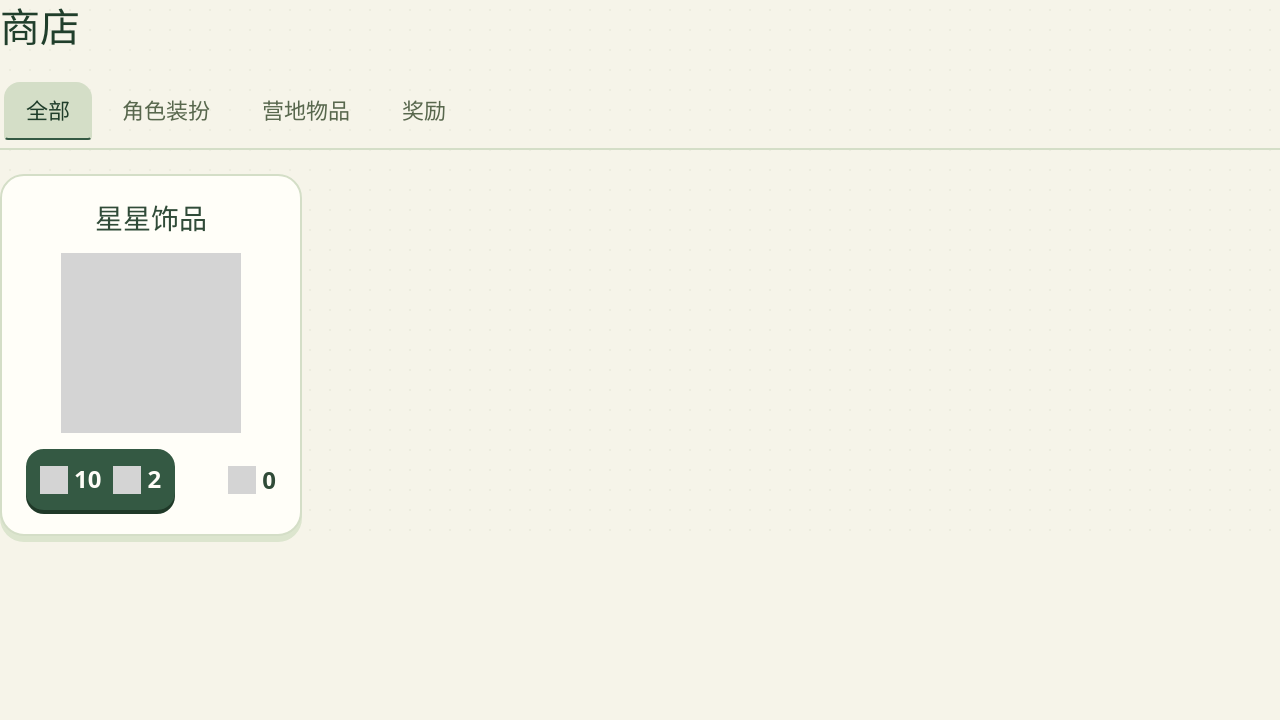
Scenario: 商店页面读取与动作边界 › 营地物品 购买后仍在当前商店分类
This screenshot has width=1280, height=720.
Expected: the heading "星星饰品" is shown, [95,199,207,237]
Click the tab "营地物品".
click(306, 111)  # box [240,82,372,140]
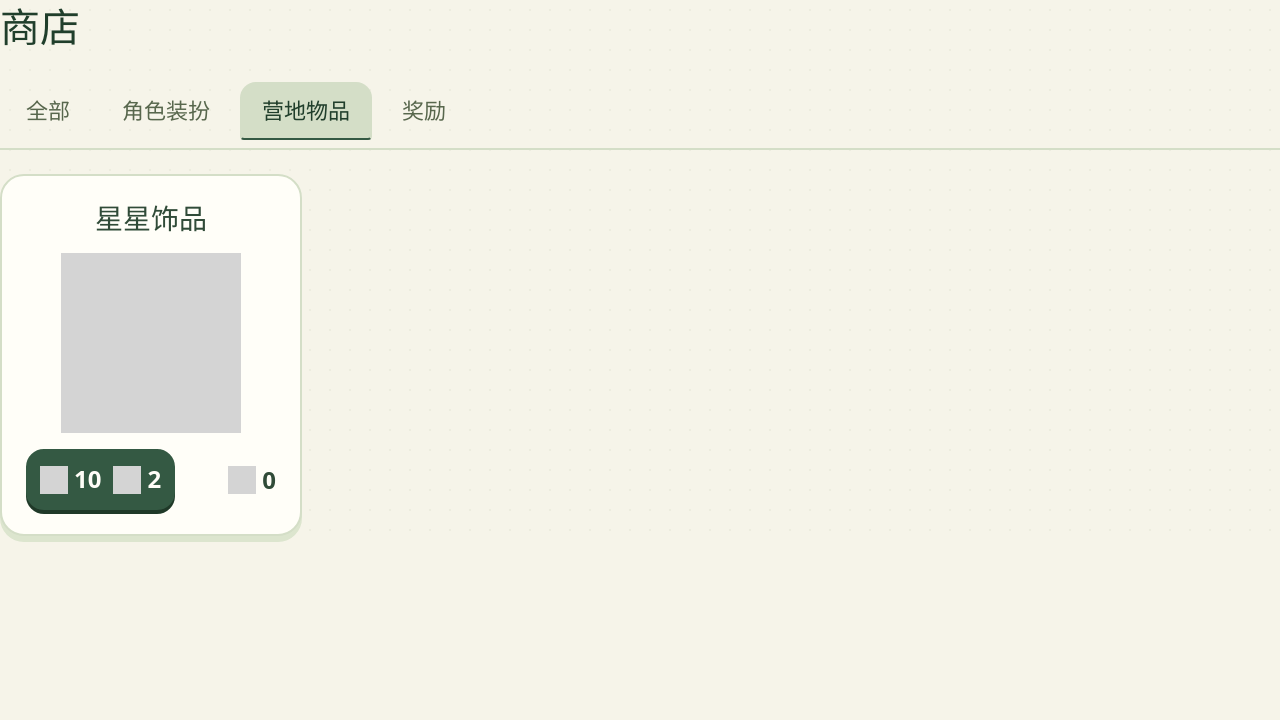
Click the button "10 2".
click(101, 480)  # box [26,450,175,510]
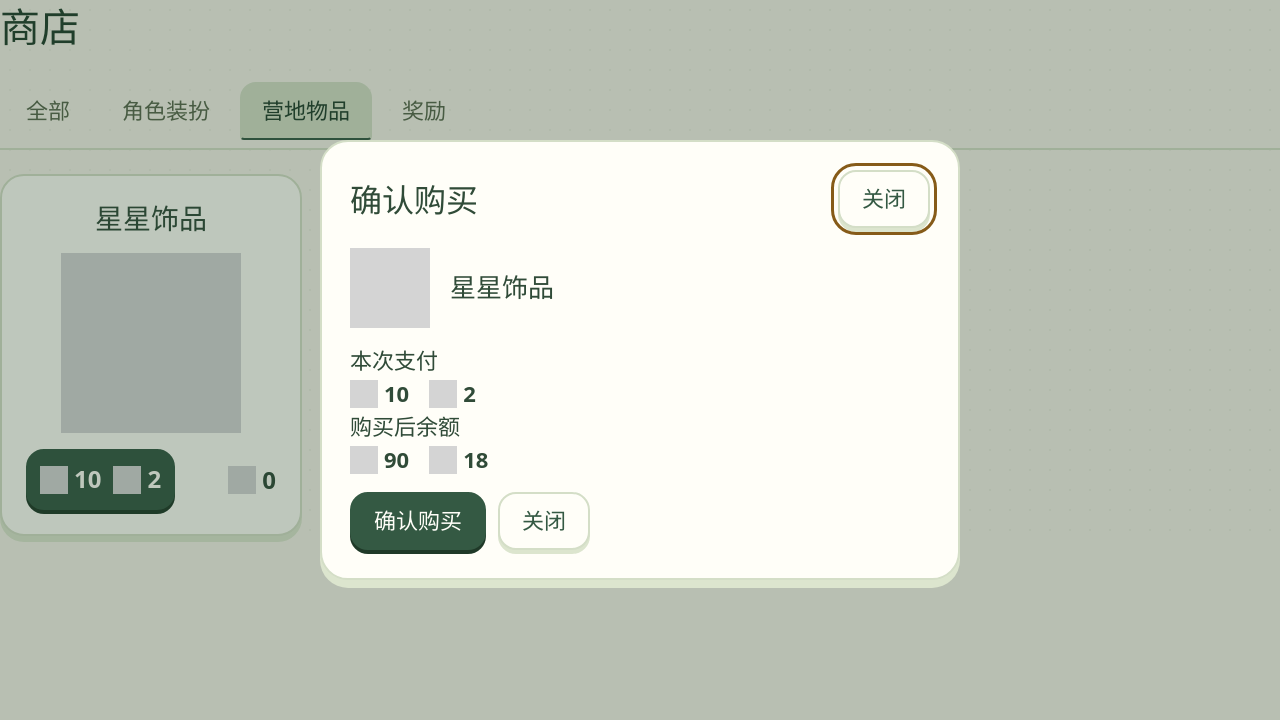
Click the button "确认购买".
click(418, 521)  # box [350,492,486,550]
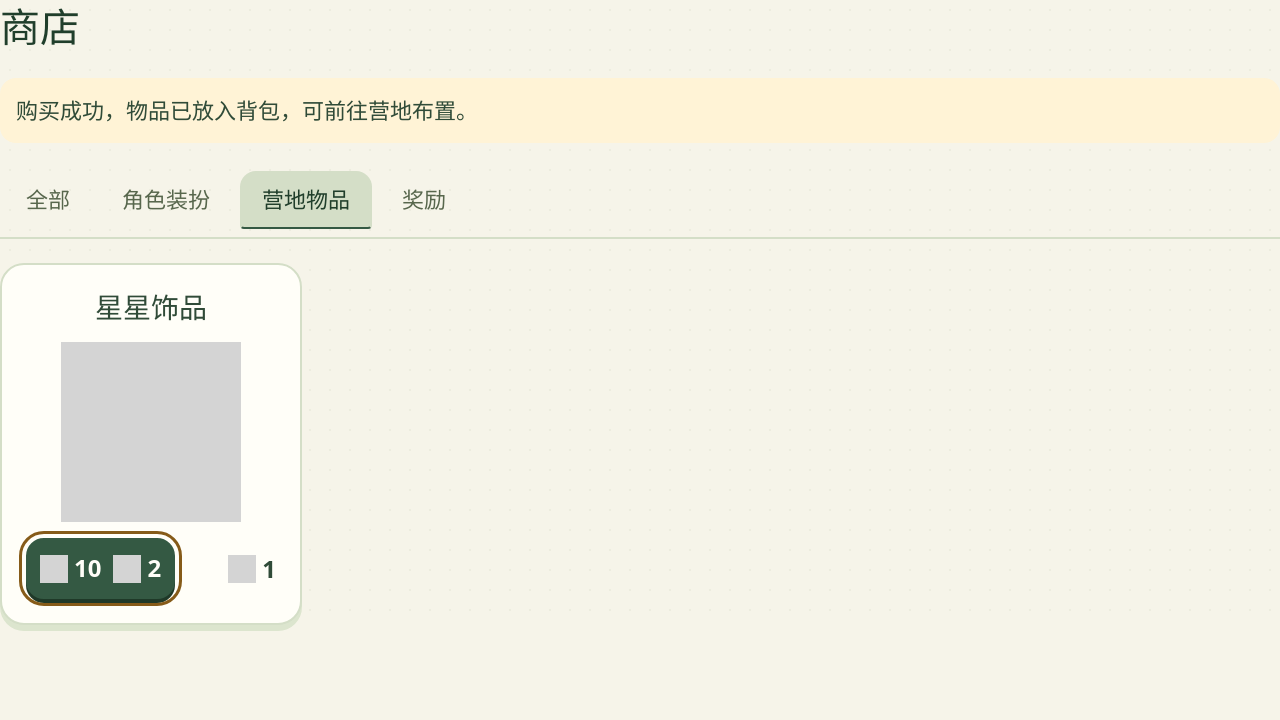
Expected: the text "购买成功，物品已放入背包，可前往营地布置。" is shown, [0,78,1279,143]
Expected: the element showing "1" is shown, [228,551,276,587]
Expected: the dialog is gone
